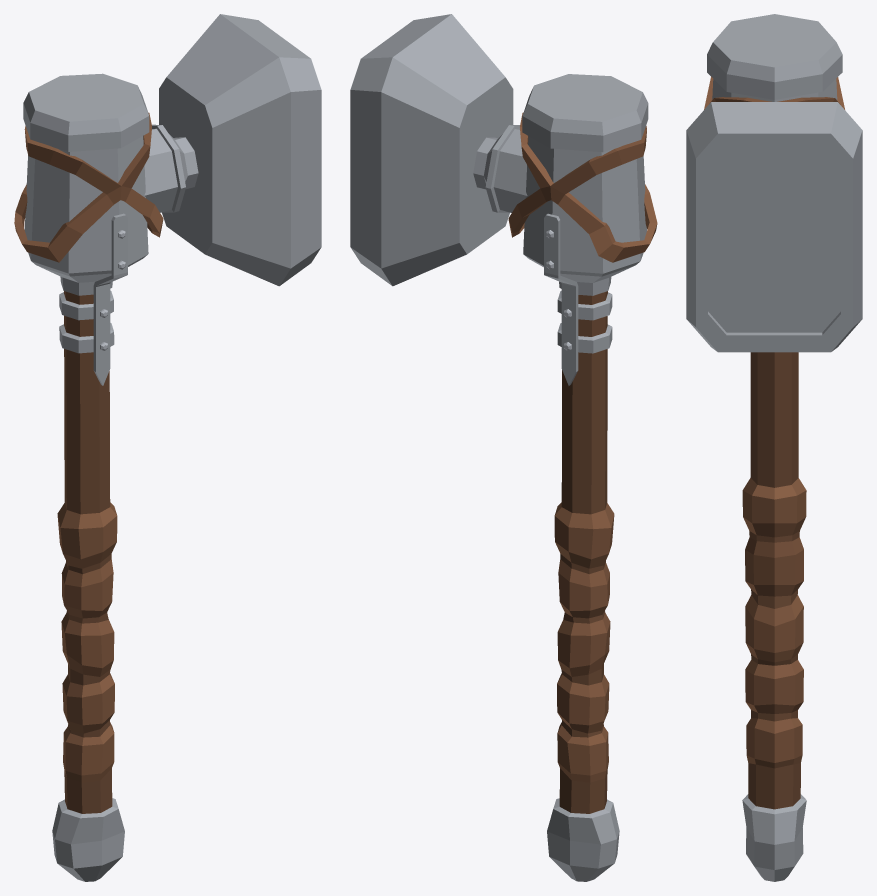
Rendered from hammer_small.glb.
3 renders of one model, left to right at view 1: azimuth 30°, elevation 25°; view 2: azimuth 150°, elevation 25°; view 3: azimuth 270°, elevation 25°, orthographic. The views are drawn at different scales.
Visible parts, largest first — view 1: Hammer_small; view 2: Hammer_small; view 3: Hammer_small.
Boxes of the visible parts, x1,y1,x2,y2 form: Hammer_small: [14, 14, 321, 881]; Hammer_small: [350, 14, 657, 881]; Hammer_small: [686, 14, 862, 881].
Size of the model in its own units: 0.3716 by 1.08 by 0.2014.
